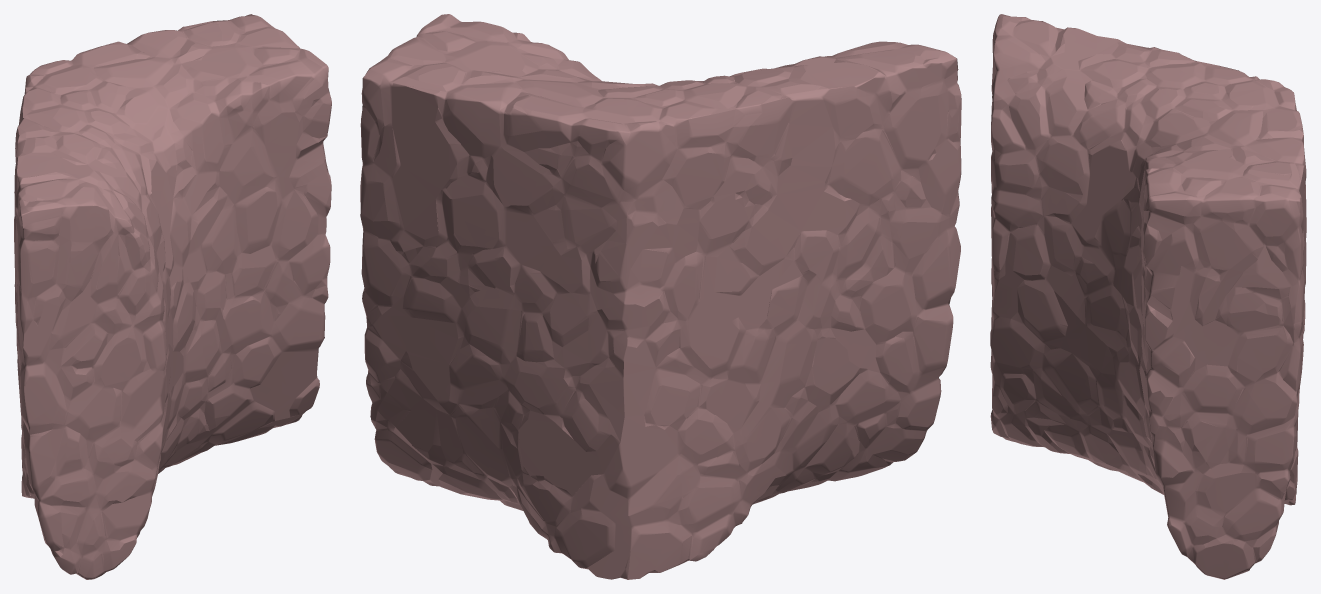
File: sea.fbx_Cube__1_LODs.fbx
3 views of the same model, side by side, from view 1: azimuth 30°, elevation 25°; view 2: azimuth 150°, elevation 25°; view 3: azimuth 270°, elevation 25° (orthographic). The views are drawn at different scales.
Visible parts, largest first — view 1: Cube (1)_LOD0; view 2: Cube (1)_LOD0; view 3: Cube (1)_LOD0.
Part boxes in pixels (left/top/right/bottom): Cube (1)_LOD0: left=14, top=14, right=331, bottom=579; Cube (1)_LOD0: left=360, top=14, right=961, bottom=579; Cube (1)_LOD0: left=990, top=14, right=1306, bottom=579.
Size of what is drawn, in the model's own units: 8063 by 8021 by 5670.
